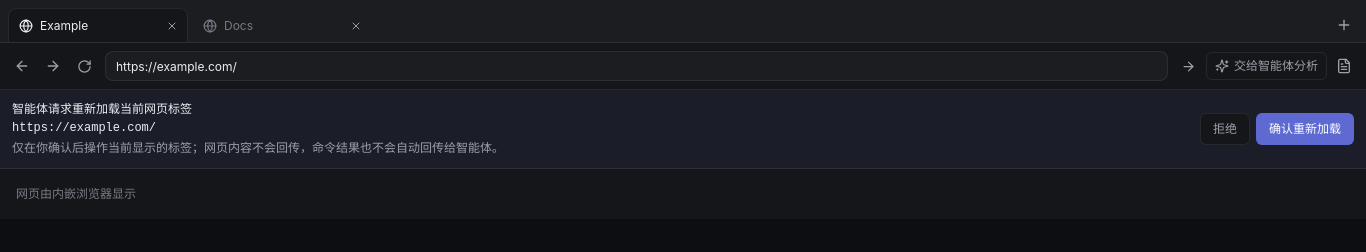
it: embedded browser › does not act when the native active tab changed after confirmation was shown
Expected: the tab "Example" is shown, [9, 9, 161, 42]
Click the button "确认重新加载" at coordinates (1305, 129), box [1256, 113, 1354, 145]
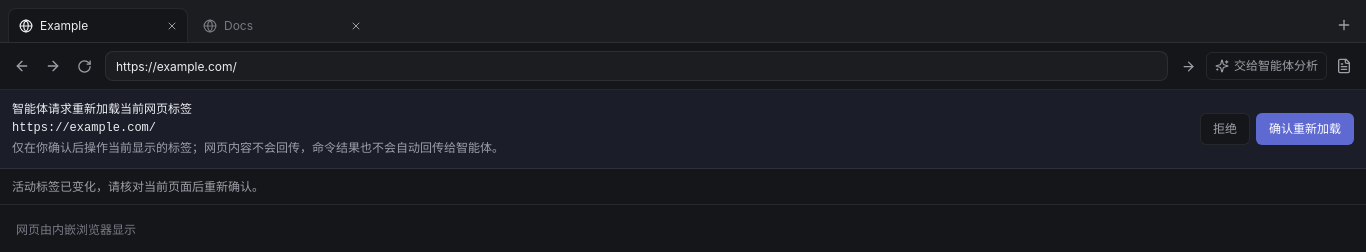
Result: the text "活动标签已变化，请核对当前页面后重新确认。" is shown at [0, 169, 1365, 205]
